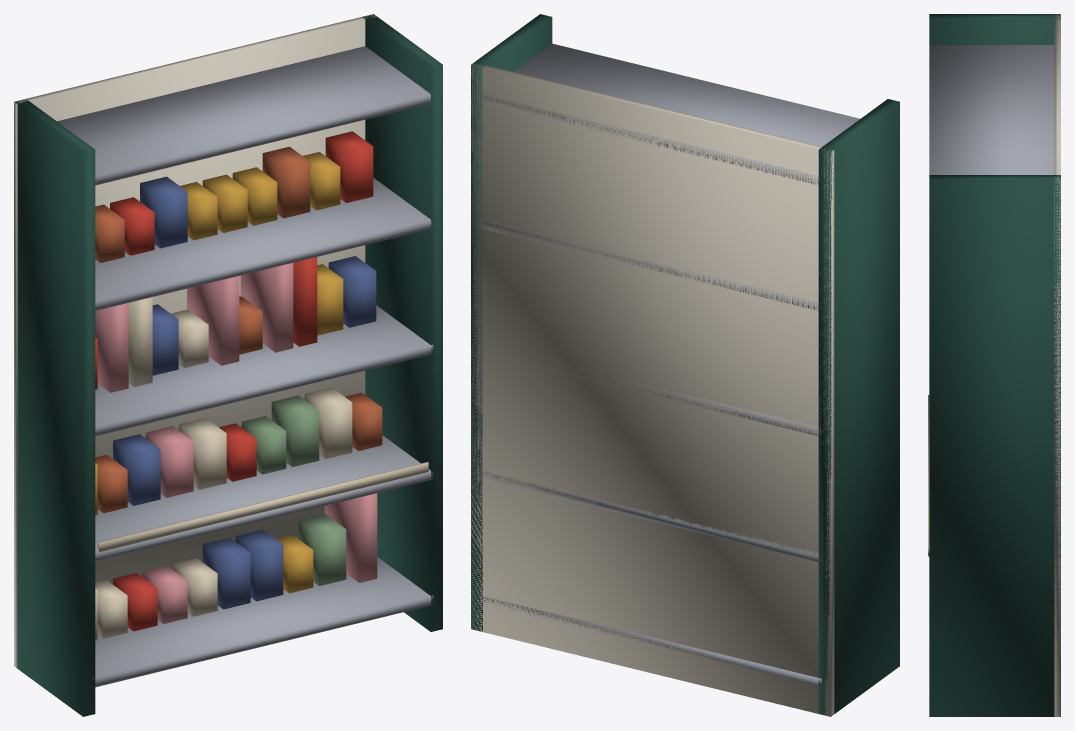
Rendered from shelf_unit.glb.
The picture shows the model from 3 angles, left to right: view 1: azimuth 30°, elevation 25°; view 2: azimuth 150°, elevation 25°; view 3: azimuth 270°, elevation 25°; orthographic projection. The views are drawn at different scales.
Visible parts, largest first — view 1: shelf_unit; view 2: shelf_unit; view 3: shelf_unit.
Boxes of the visible parts, x1,y1,x2,y2 form: shelf_unit: [14, 14, 442, 716]; shelf_unit: [471, 14, 899, 716]; shelf_unit: [928, 14, 1060, 716].
Size of the model in its own units: 1.2 by 1.8 by 0.4045.
